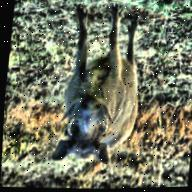boar: (50, 0, 148, 168)
